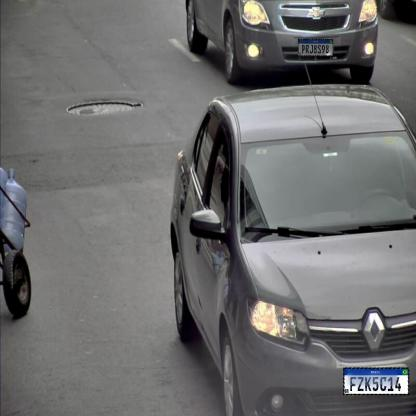PlacaM: (343, 368, 409, 395), (298, 39, 333, 56)
